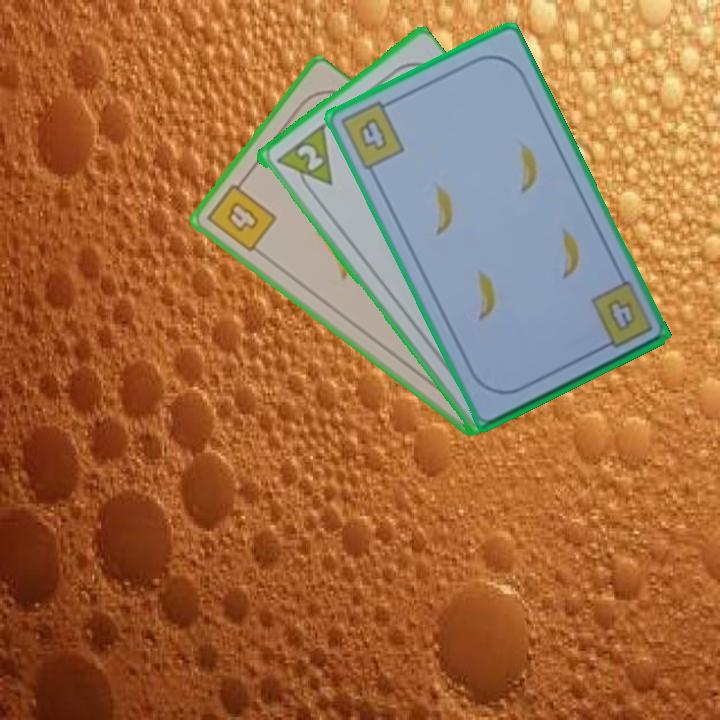2p: (292, 140, 326, 174)
4b: (203, 174, 280, 255), (336, 95, 407, 173), (603, 295, 639, 335)
